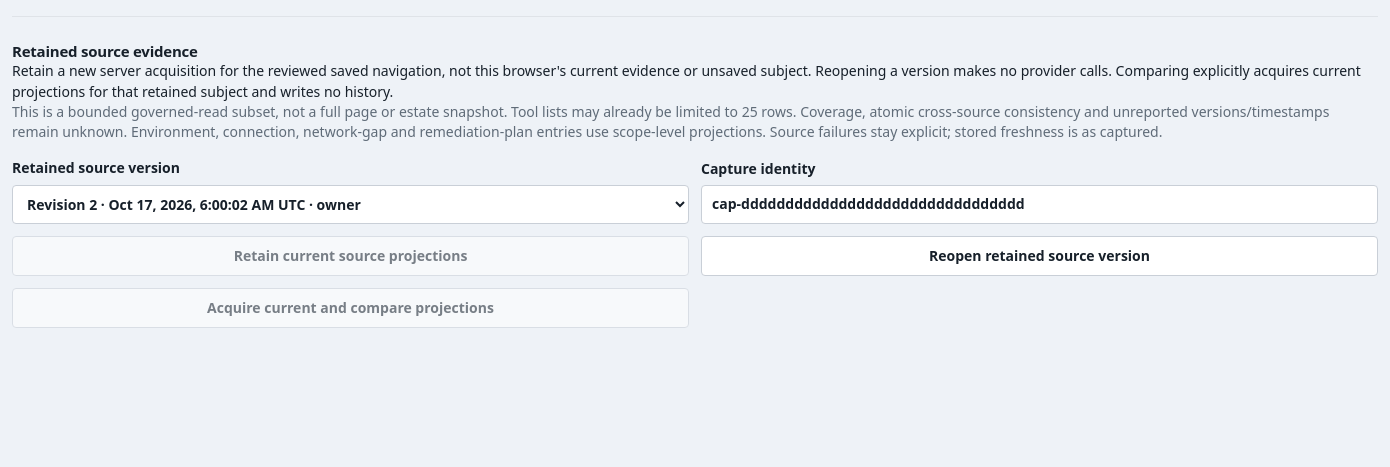
retained investigation source evidence › clears prior projections on explicit capture selection, without fetching or retaining
Click the button "Reopen retained source version" at (1040, 256), box [701,236,1378,276]
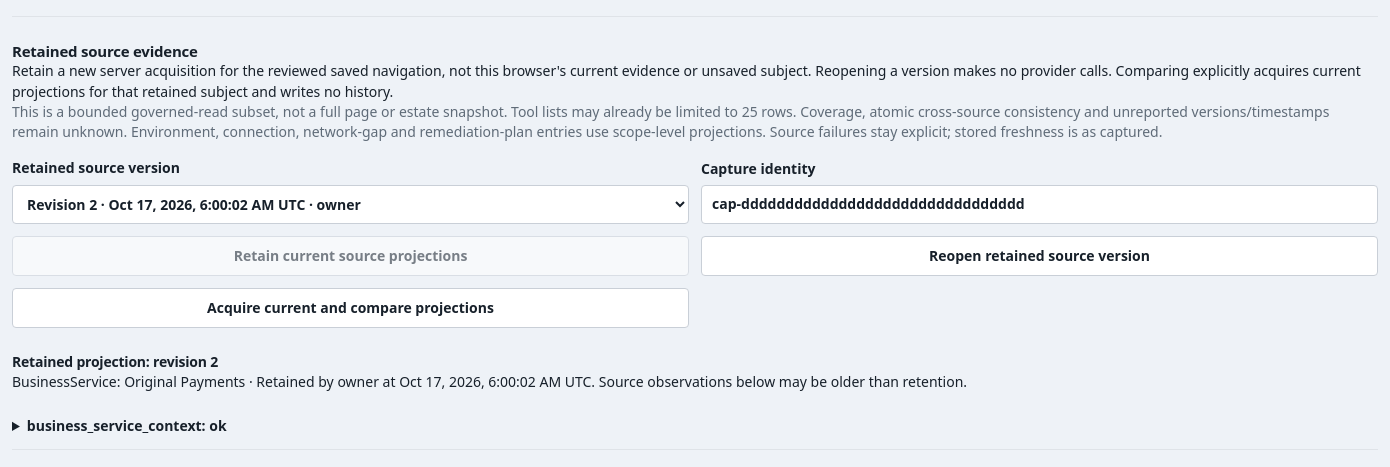
expect the heading "Retained projection: revision 2" is shown: met, box [12,352,218,371]
Select "New capture or unconfirmed identity" in the dropdown labelled "Retained source version" at (350, 204), box [12,185,689,224]
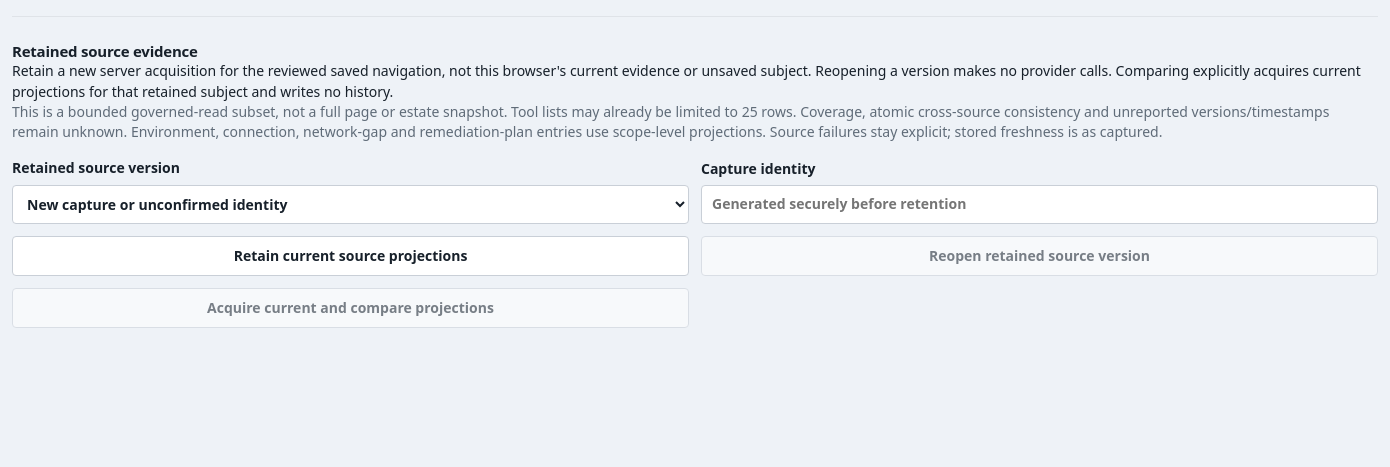
expect the heading "Retained projection: revision 2" is gone: met
expect the field labelled "Capture identity" is empty: met, box [701,185,1378,224]
expect the button "Retain current source projections" is enabled: met, box [12,236,689,276]
